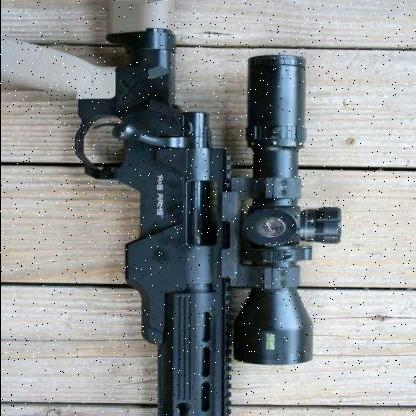rifle: (40, 0, 310, 415)
